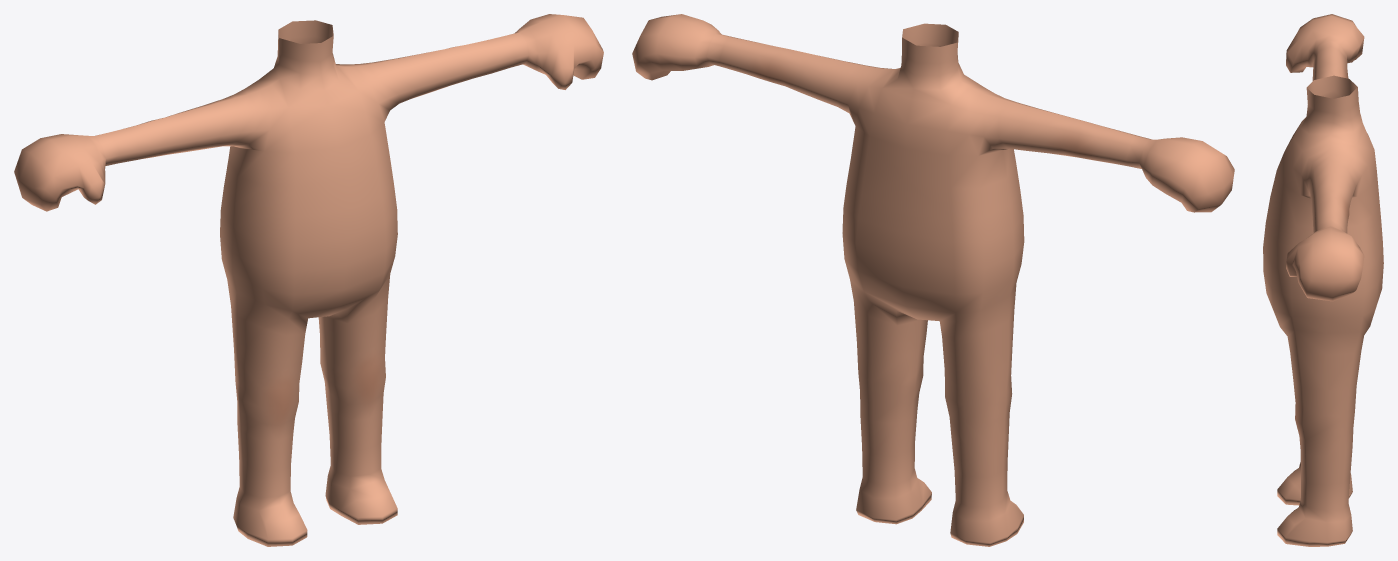
Rendered from Body_Yellow_1.fbx.
3 renders of one model, left to right at view 1: azimuth 30°, elevation 25°; view 2: azimuth 150°, elevation 25°; view 3: azimuth 270°, elevation 25°, orthographic. The views are drawn at different scales.
Visible parts, largest first — view 1: Body_Yellow_1; view 2: Body_Yellow_1; view 3: Body_Yellow_1.
Part boxes in pixels (x1=…): Body_Yellow_1: x1=14, y1=14, x2=603, y2=546; Body_Yellow_1: x1=632, y1=14, x2=1234, y2=546; Body_Yellow_1: x1=1263, y1=14, x2=1383, y2=546.
Bounding box in the file's own units: 130 × 104 × 26.46.
